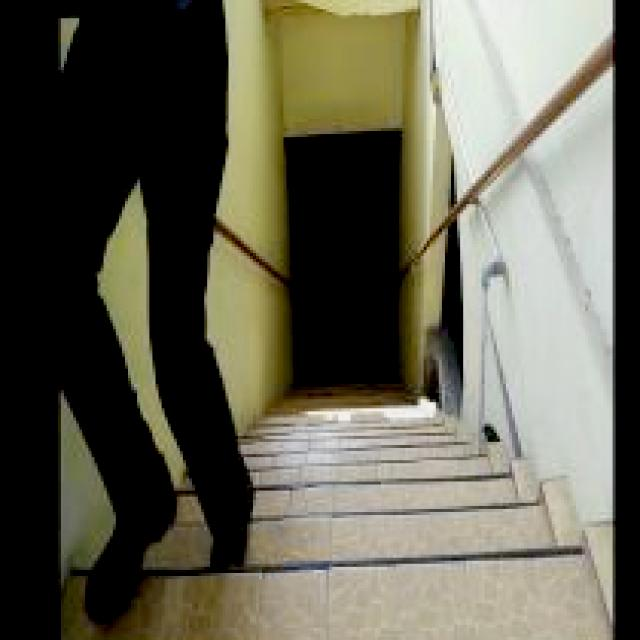downstair: (269, 403, 516, 617)
